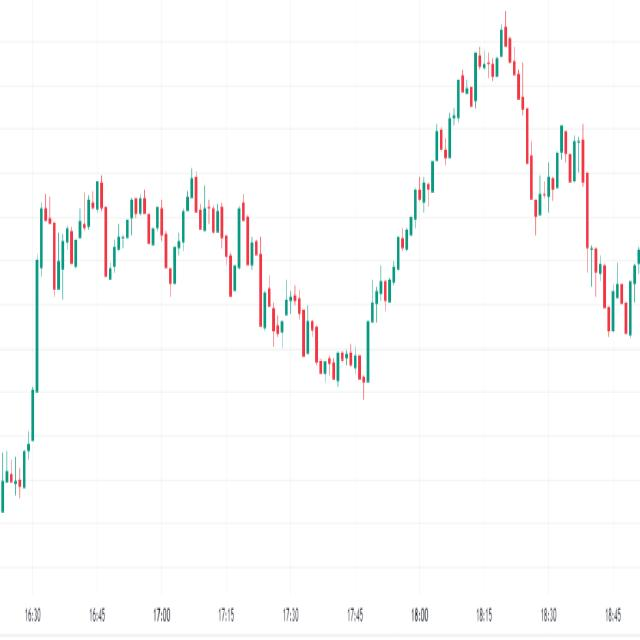rectangle: (35, 165, 266, 308)
